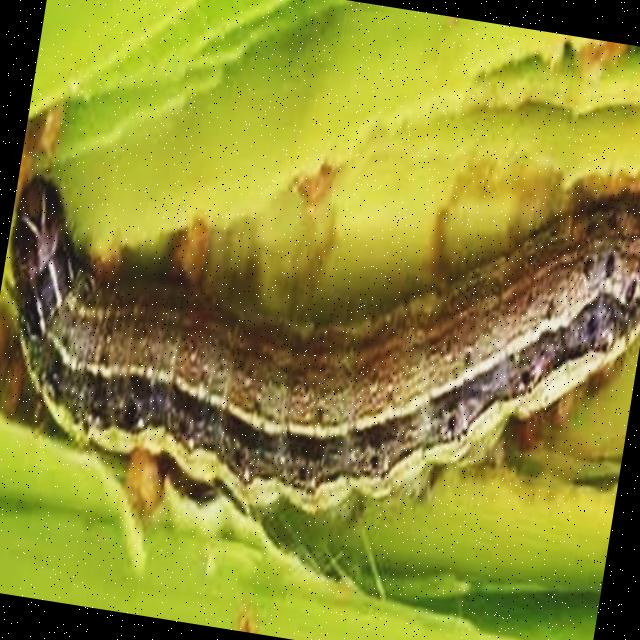worm: (1, 88, 640, 640)
